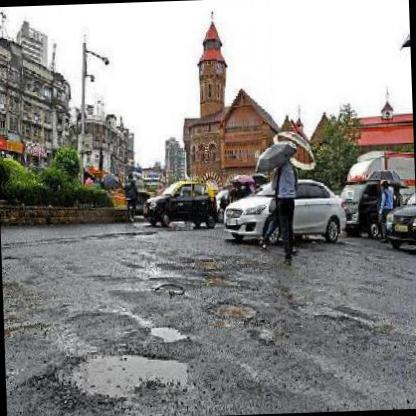pothole: (59, 348, 195, 402), (208, 296, 258, 323), (147, 320, 188, 343), (152, 280, 184, 295)
